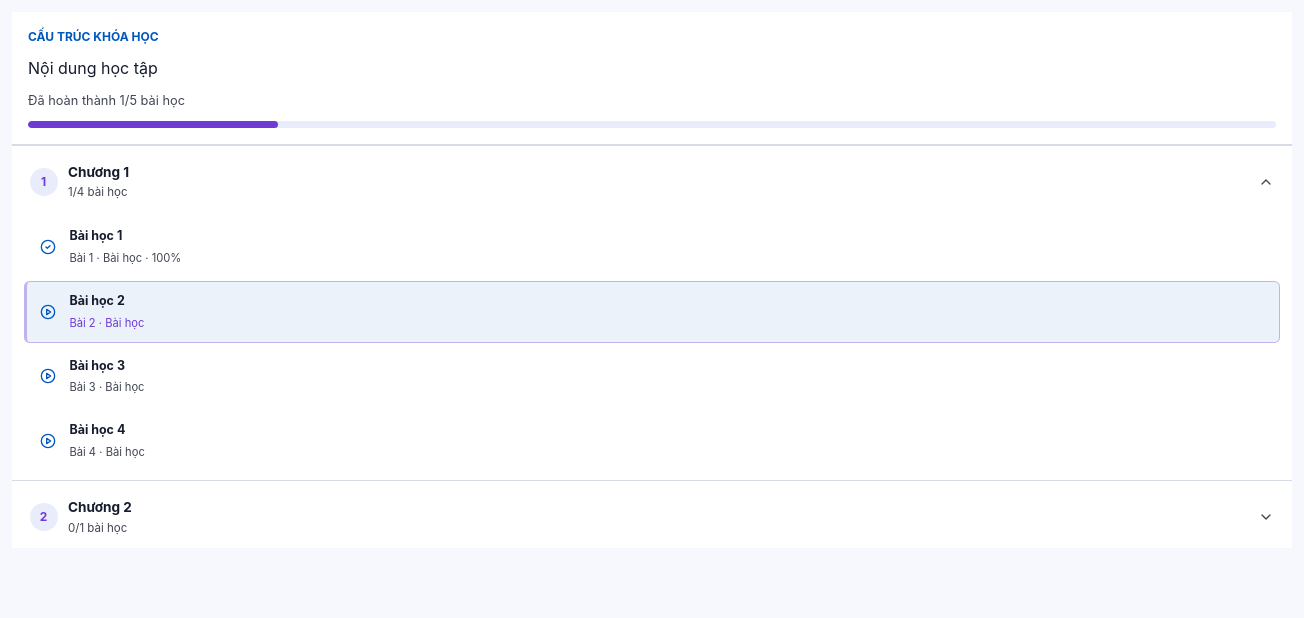
Scenario: LessonNavigation › renders Stitch-like course structure with collapsible sections
Check: the text "Cấu trúc khóa học" is shown, box [28,29,158,44]
Check: the text "Đã hoàn thành 1/5 bài học" is shown, box [28,93,185,108]
Click the button "2 Chương 2 0/1 bài học": coordinates (96, 507) [24,487,1280,548]
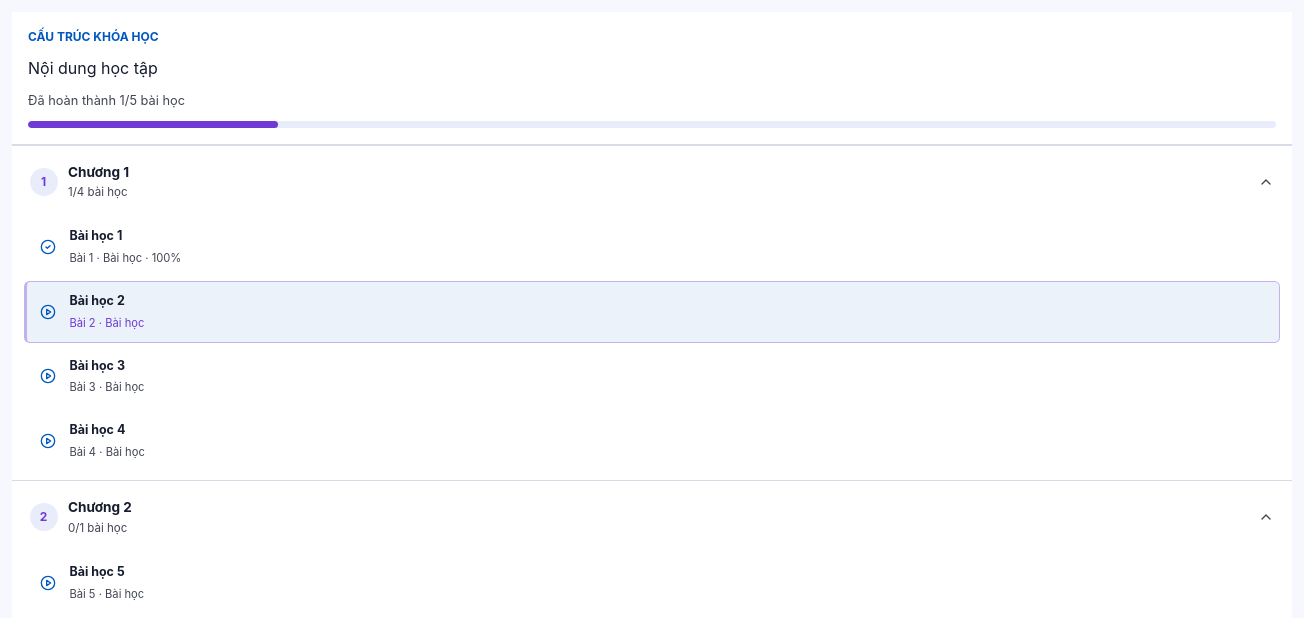
Check: the text "Bài học 5" is shown, box [69,564,125,579]
